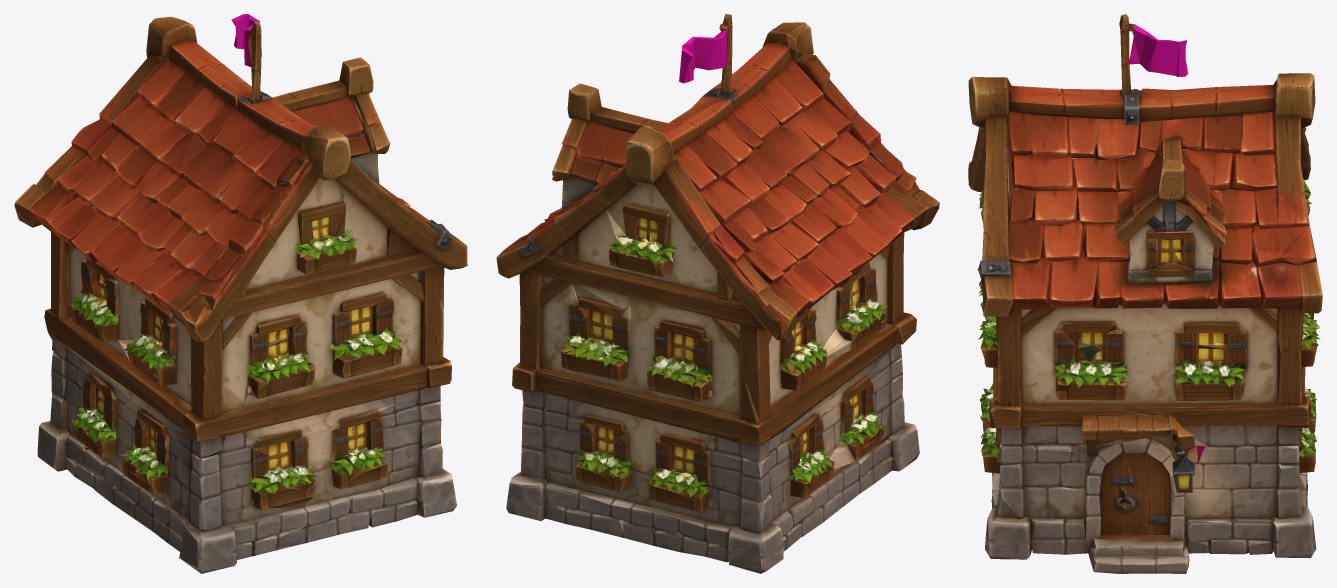
The model's file is house2.glb.
3 renders of one model, left to right at view 1: azimuth 30°, elevation 25°; view 2: azimuth 150°, elevation 25°; view 3: azimuth 270°, elevation 25°, orthographic. The views are drawn at different scales.
Visible parts, largest first — view 1: Mesh_0; view 2: Mesh_0; view 3: Mesh_0.
Part boxes in pixels (x1,y1,x2,y2): Mesh_0: [14, 14, 467, 573]; Mesh_0: [496, 14, 939, 573]; Mesh_0: [968, 14, 1322, 573].
Bounding box in the file's own units: 1.34 × 1.92 × 1.28.
1 material, 1 textured.
